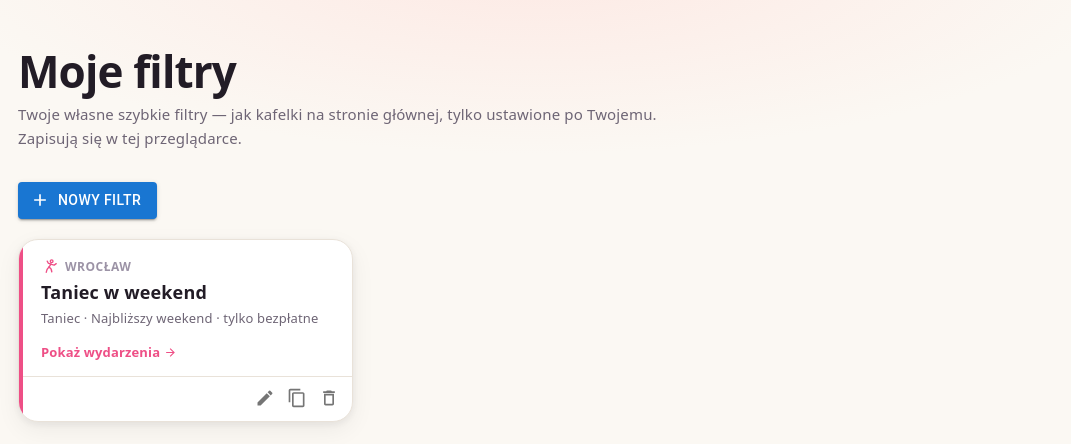
Test case: MyFiltersView › deletes a preset once the confirmation is accepted
Click the button named "Usuń": (329, 398) [314, 383, 344, 413]
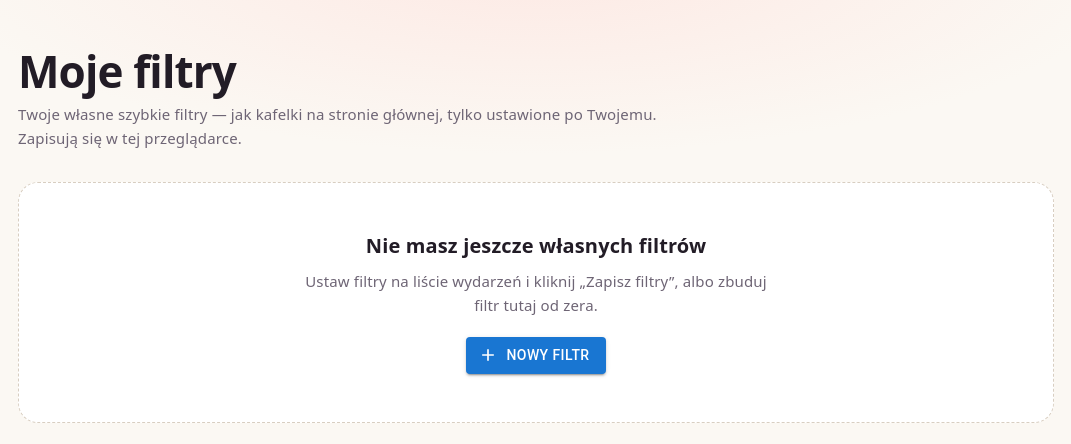
expect the heading "Nie masz jeszcze własnych filtrów" is shown: met, box [366, 231, 706, 261]
